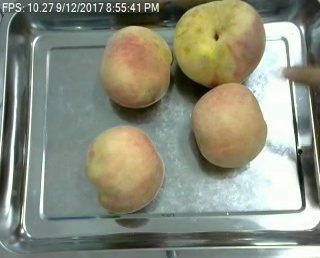Peach: (174, 0, 266, 87), (84, 124, 165, 214), (192, 85, 267, 167), (99, 24, 172, 108)
